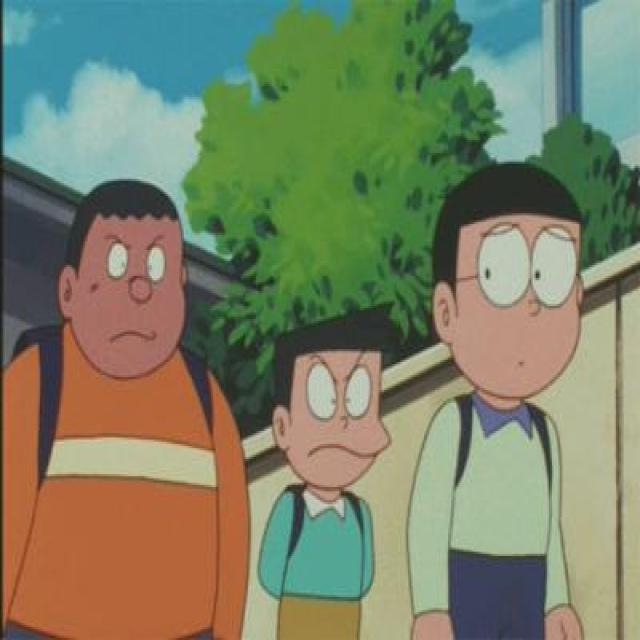jaian: (54, 175, 196, 377)
nobita: (426, 155, 584, 414)
suneo: (264, 293, 397, 494)
